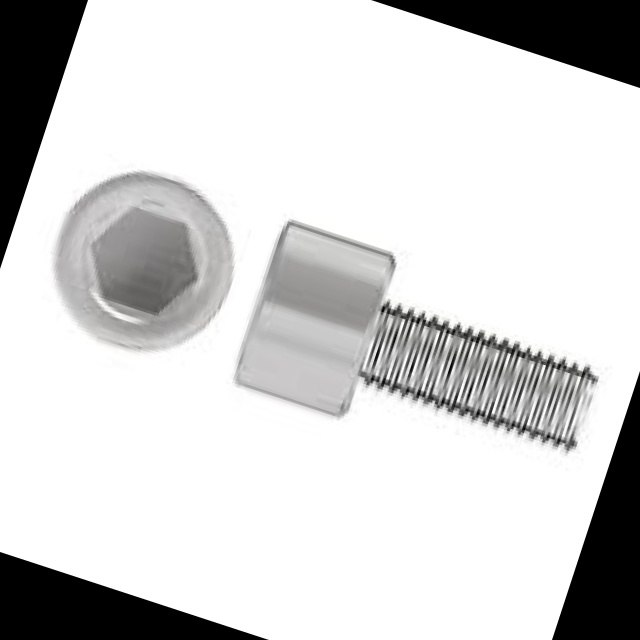allen: (30, 148, 258, 376)
